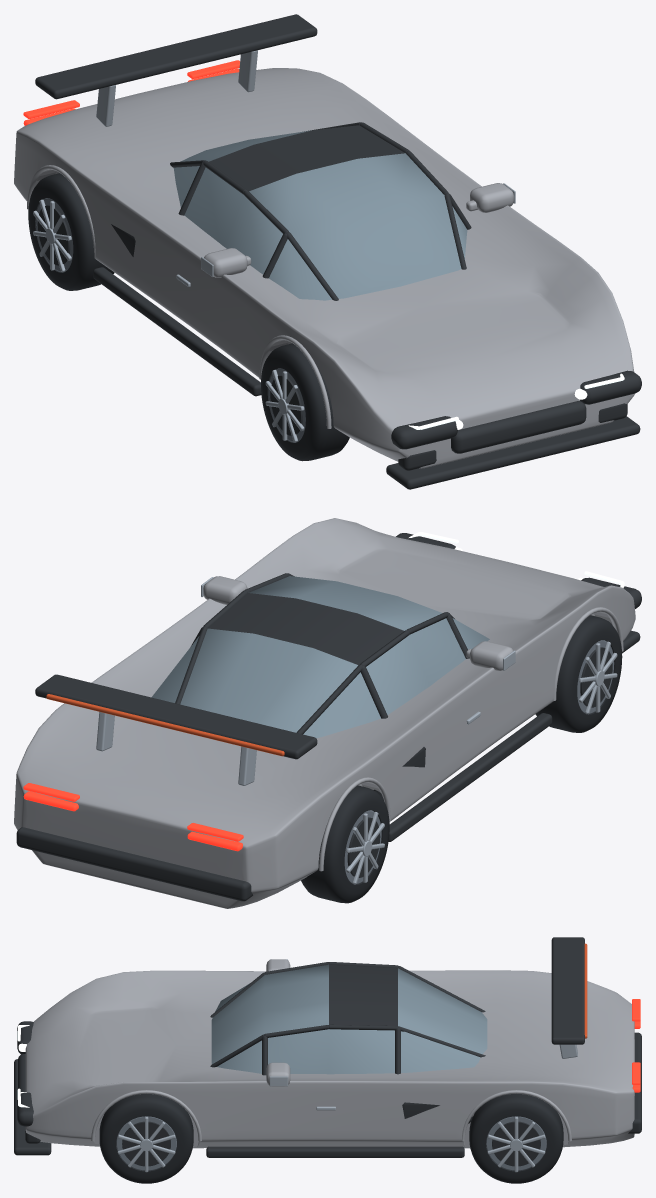
Rendered from velocity.fbx.
The picture shows the model from 3 angles, top to bottom: view 1: azimuth 30°, elevation 25°; view 2: azimuth 150°, elevation 25°; view 3: azimuth 270°, elevation 25°; orthographic projection. The views are drawn at different scales.
Parts seen in each view (by area): view 1: Sculpted exterior panels, Cabin glazing, Velocity RS carbon aerofoil, Crowned roof panel, Front lower splitter, Performance tyre FL, Performance tyre RL, Recessed radiator grille, Low sill molding, Recessed lamp housing, Recessed lamp housing.001, Alloy spoke face FL (+6 smaller); view 2: Sculpted exterior panels, Cabin glazing, Crowned roof panel, Velocity RS carbon aerofoil, Rear diffuser, Performance tyre RL, Performance tyre FL, Low sill molding, Wing trailing-edge accent, Alloy spoke face FL, Alloy spoke face RL, Mirror_L_Housing (+8 smaller); view 3: Sculpted exterior panels, Cabin glazing, Performance tyre RR, Performance tyre FR, Crowned roof panel, Velocity RS carbon aerofoil, Low sill molding.001, Brake rotor.003, Brake rotor.001, Alloy spoke face RR, Alloy spoke face FR, Front lower splitter (+10 smaller).
Boxes of the visible parts, box(x1,y1,x2,y2) form: Sculpted exterior panels: box(14, 68, 634, 468); Cabin glazing: box(173, 130, 467, 300); Velocity RS carbon aerofoil: box(35, 14, 317, 99); Crowned roof panel: box(209, 125, 405, 191); Front lower splitter: box(386, 416, 640, 489); Performance tyre FL: box(261, 343, 349, 461); Performance tyre RL: box(28, 173, 114, 290); Recessed radiator grille: box(451, 401, 586, 453); Low sill molding: box(93, 267, 261, 396); Recessed lamp housing: box(391, 416, 457, 449); Recessed lamp housing.001: box(580, 370, 641, 404); Alloy spoke face FL: box(265, 369, 304, 442); Sculpted exterior panels: box(14, 518, 635, 908); Cabin glazing: box(151, 576, 489, 738); Crowned roof panel: box(207, 593, 403, 664); Velocity RS carbon aerofoil: box(35, 674, 317, 759); Rear diffuser: box(16, 827, 252, 901); Performance tyre RL: box(301, 785, 389, 903); Performance tyre FL: box(535, 615, 622, 732); Low sill molding: box(388, 713, 552, 841); Wing trailing-edge accent: box(46, 694, 284, 756); Alloy spoke face FL: box(578, 641, 617, 714); Alloy spoke face RL: box(346, 812, 384, 884); Mirror_L_Housing: box(470, 641, 513, 670); Sculpted exterior panels: box(25, 970, 634, 1148); Cabin glazing: box(211, 964, 487, 1074); Performance tyre RR: box(469, 1094, 563, 1183); Performance tyre FR: box(99, 1094, 193, 1183); Crowned roof panel: box(329, 964, 397, 1025); Velocity RS carbon aerofoil: box(551, 937, 584, 1044); Low sill molding.001: box(206, 1146, 464, 1157); Brake rotor.003: box(492, 1121, 540, 1166); Brake rotor.001: box(122, 1121, 170, 1166); Alloy spoke face RR: box(487, 1117, 545, 1172); Alloy spoke face FR: box(117, 1117, 175, 1172); Front lower splitter: box(14, 1059, 51, 1155).
Bounding box in the file's own units: 2.2 × 1.15 × 4.72.
